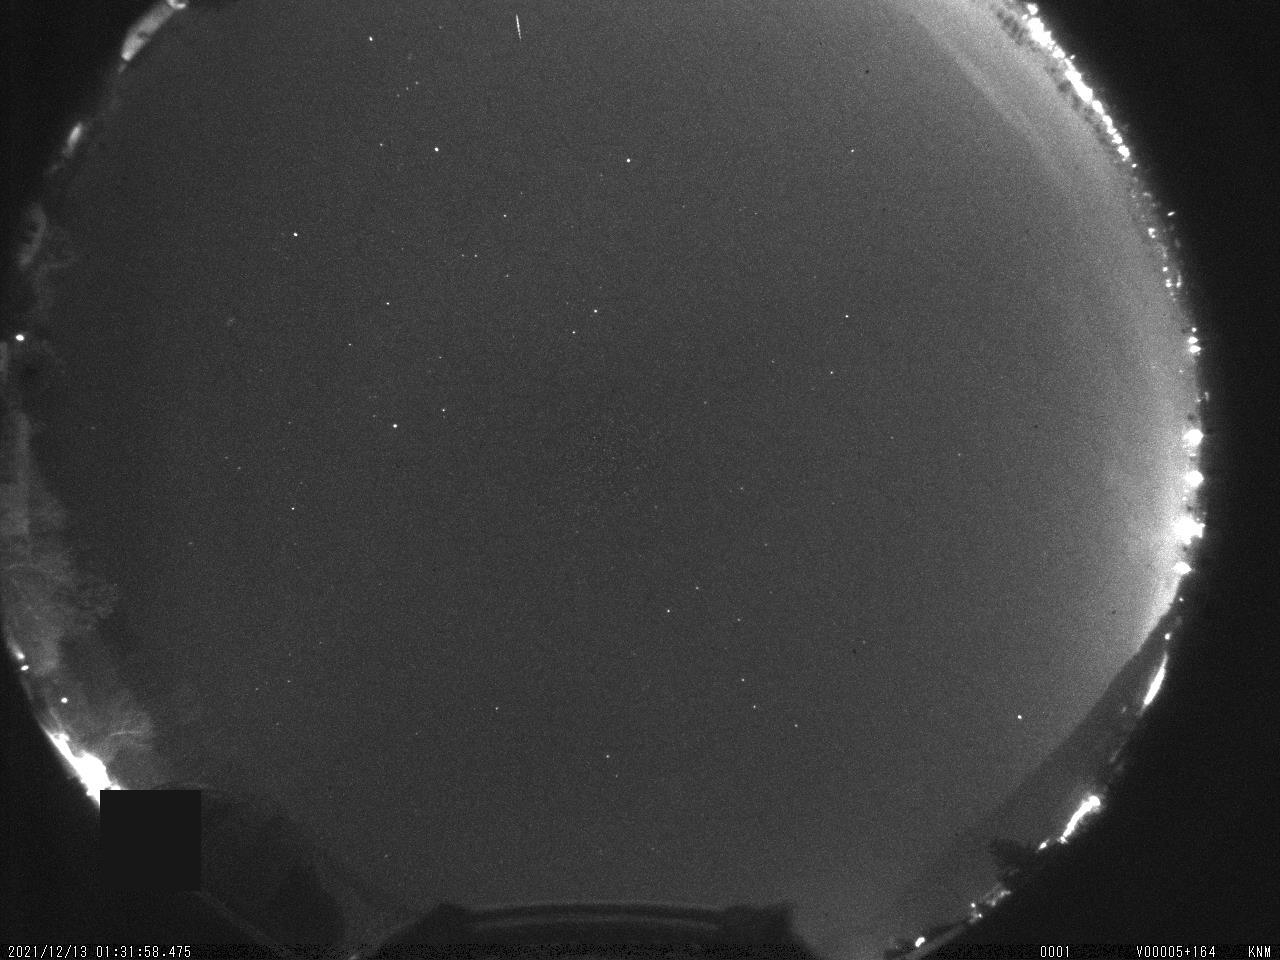meteor: (505, 6, 529, 49)
